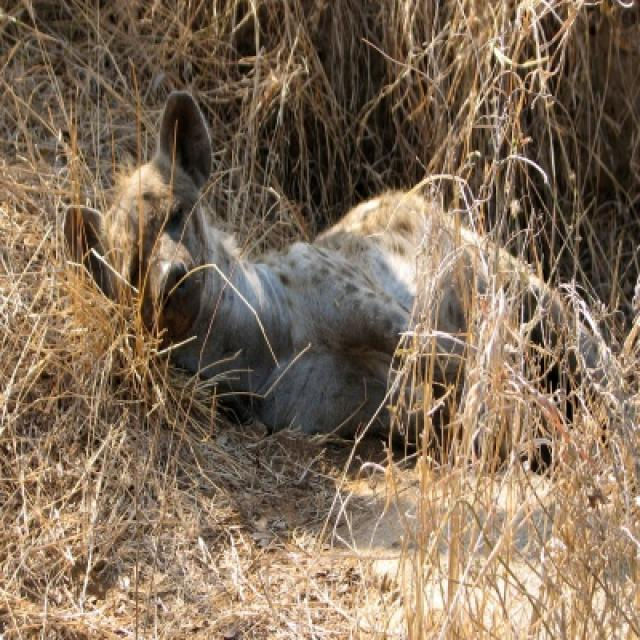hyena: (59, 89, 630, 475)
